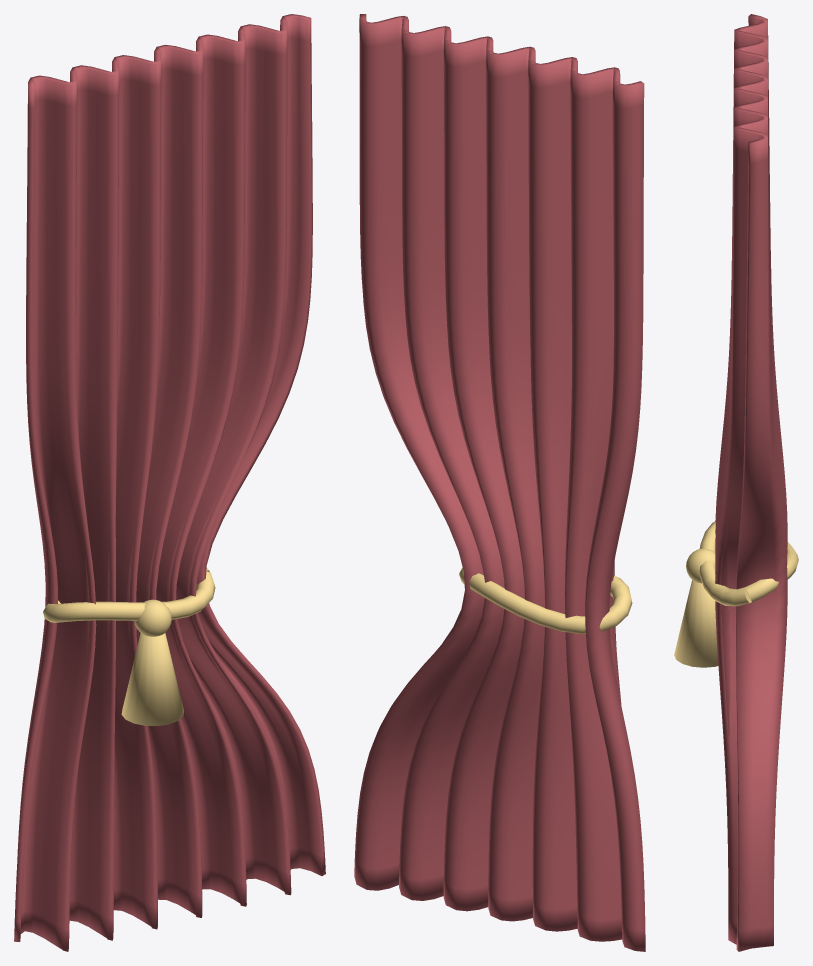
Rendered from curtain.glb.
3 views of the same model, side by side, from view 1: azimuth 30°, elevation 25°; view 2: azimuth 150°, elevation 25°; view 3: azimuth 270°, elevation 25° (orthographic). The views are drawn at different scales.
Visible parts, largest first — view 1: curtain; view 2: curtain; view 3: curtain.
Part boxes in pixels (x1,y1,x2,y2): curtain: (14, 14, 325, 951); curtain: (354, 14, 645, 951); curtain: (674, 14, 798, 951).
Bounding box in the file's own units: 1.09 × 3.02 × 0.4198.
